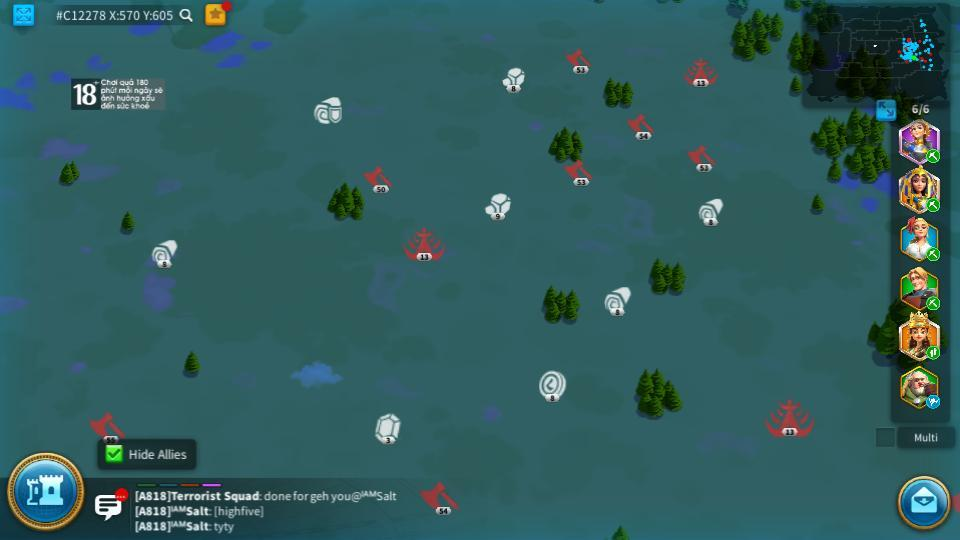gem-z-out: (374, 413, 402, 441)
march_farming: (925, 197, 941, 212), (925, 149, 941, 162), (925, 249, 941, 261)
march_idle: (925, 396, 942, 408)
march_marching: (925, 347, 941, 359), (926, 297, 941, 308)
